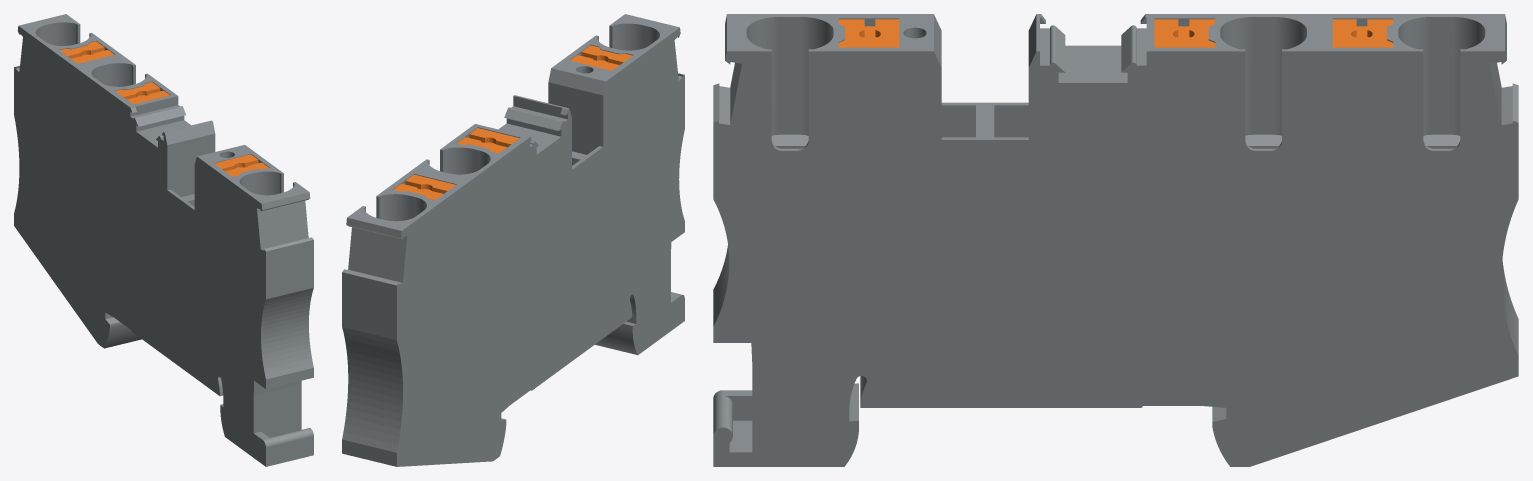
The model's file is PT-6-TWIN.dae.
3 views of the same model, side by side, from view 1: azimuth 30°, elevation 25°; view 2: azimuth 150°, elevation 25°; view 3: azimuth 270°, elevation 25° (orthographic). The views are drawn at different scales.
Visible parts, largest first — view 1: node_036548d2_3b24_4cc8_9c6c_3b38b74d5e14_mesh0, node_036548d2_3b24_4cc8_9c6c_3b38b74d5e14_mesh1; view 2: node_036548d2_3b24_4cc8_9c6c_3b38b74d5e14_mesh0, node_036548d2_3b24_4cc8_9c6c_3b38b74d5e14_mesh1; view 3: node_036548d2_3b24_4cc8_9c6c_3b38b74d5e14_mesh0, node_036548d2_3b24_4cc8_9c6c_3b38b74d5e14_mesh1.
Boxes of the visible parts, x1=… form: node_036548d2_3b24_4cc8_9c6c_3b38b74d5e14_mesh0: x1=14, y1=14, x2=313, y2=466; node_036548d2_3b24_4cc8_9c6c_3b38b74d5e14_mesh1: x1=60, y1=41, x2=268, y2=176; node_036548d2_3b24_4cc8_9c6c_3b38b74d5e14_mesh0: x1=342, y1=14, x2=684, y2=466; node_036548d2_3b24_4cc8_9c6c_3b38b74d5e14_mesh1: x1=393, y1=45, x2=632, y2=199; node_036548d2_3b24_4cc8_9c6c_3b38b74d5e14_mesh0: x1=713, y1=14, x2=1518, y2=466; node_036548d2_3b24_4cc8_9c6c_3b38b74d5e14_mesh1: x1=838, y1=19, x2=1393, y2=47.
Size of the model in its own units: 8.15 by 74.13 by 42.2.
